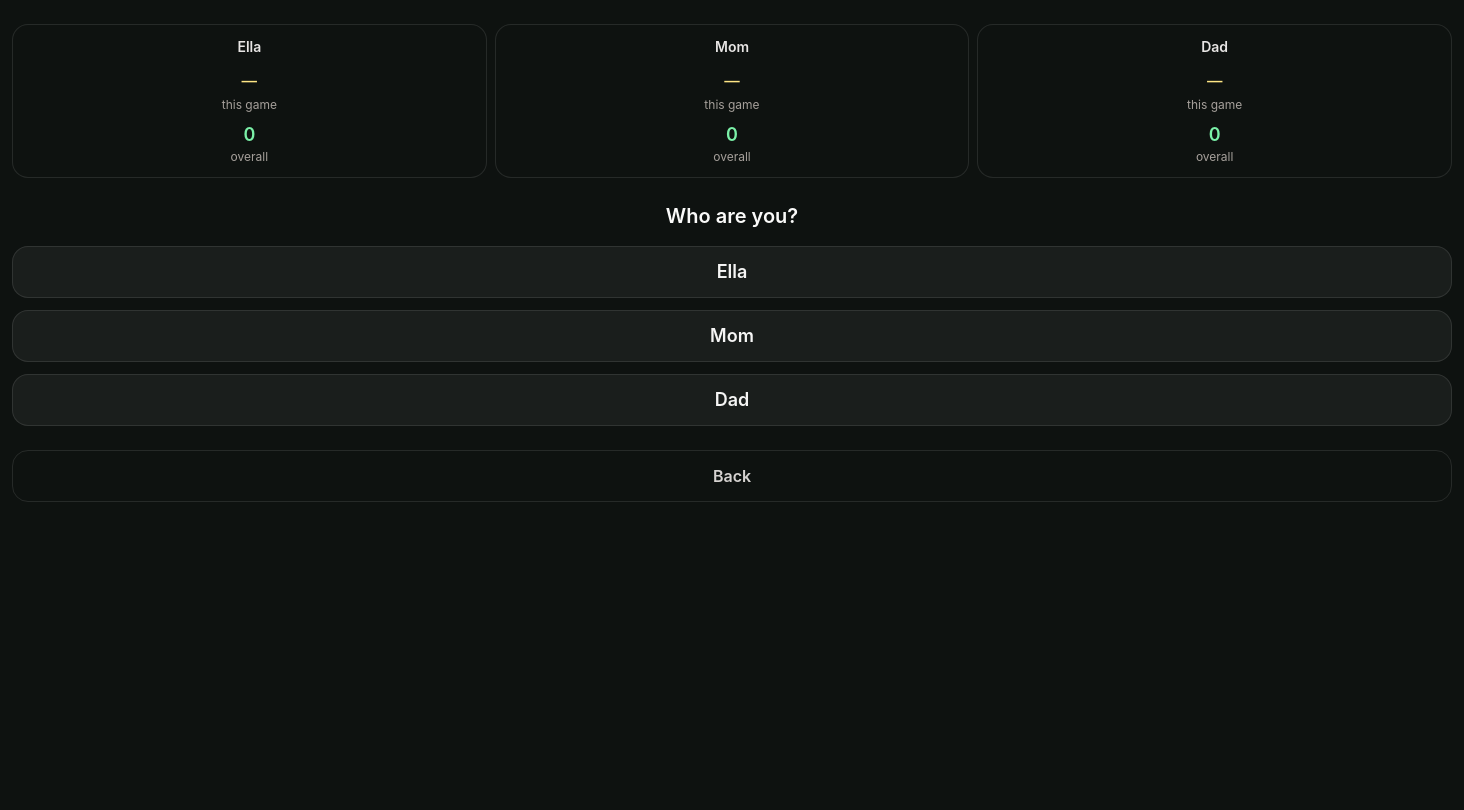
it: family match screen › does not count a short spelling and shows the letters from your own try
Click the button "Ella": (732, 272) [12, 246, 1452, 298]
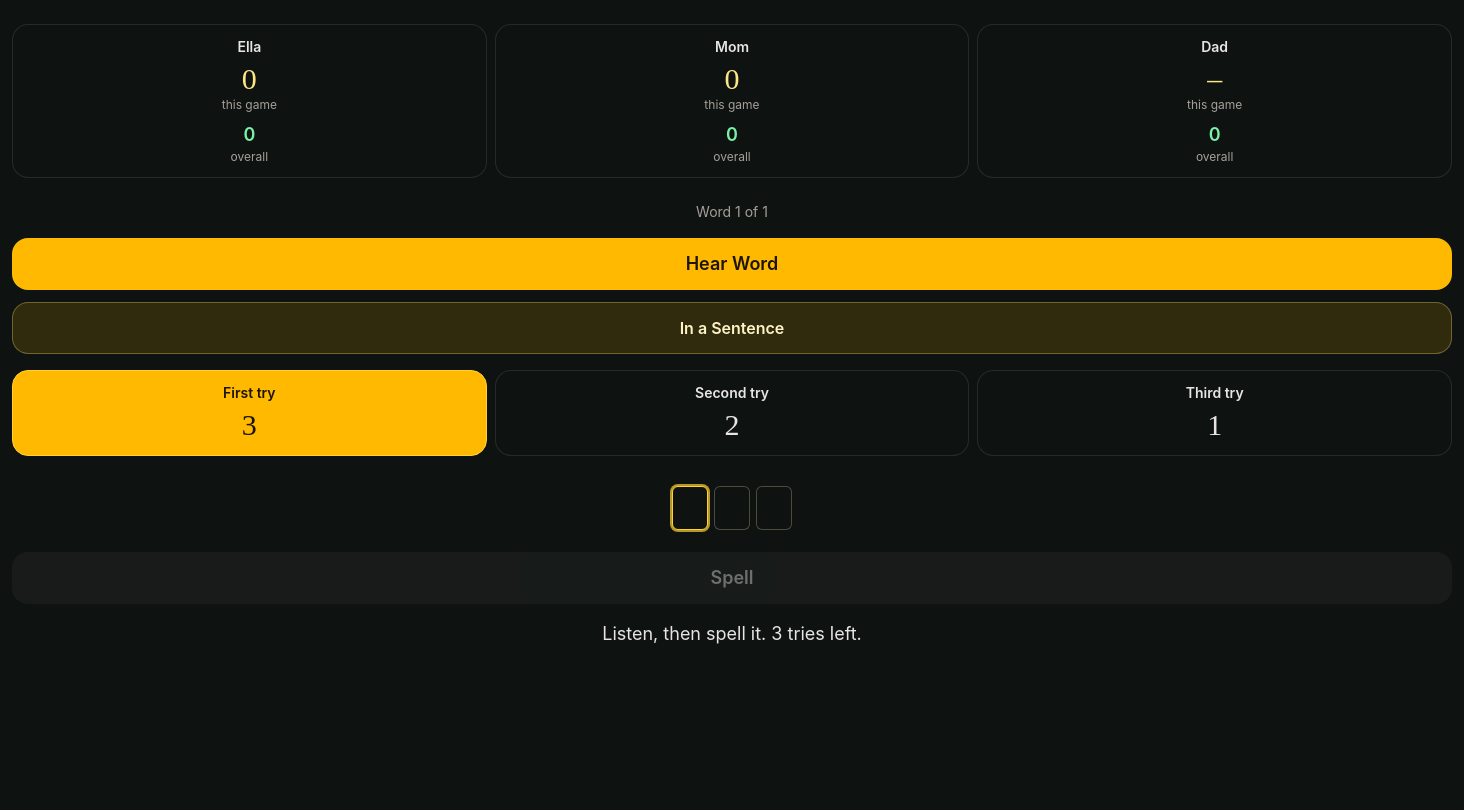
In the field named "Spell the word": (732, 508) [12, 476, 1452, 540], type "r"
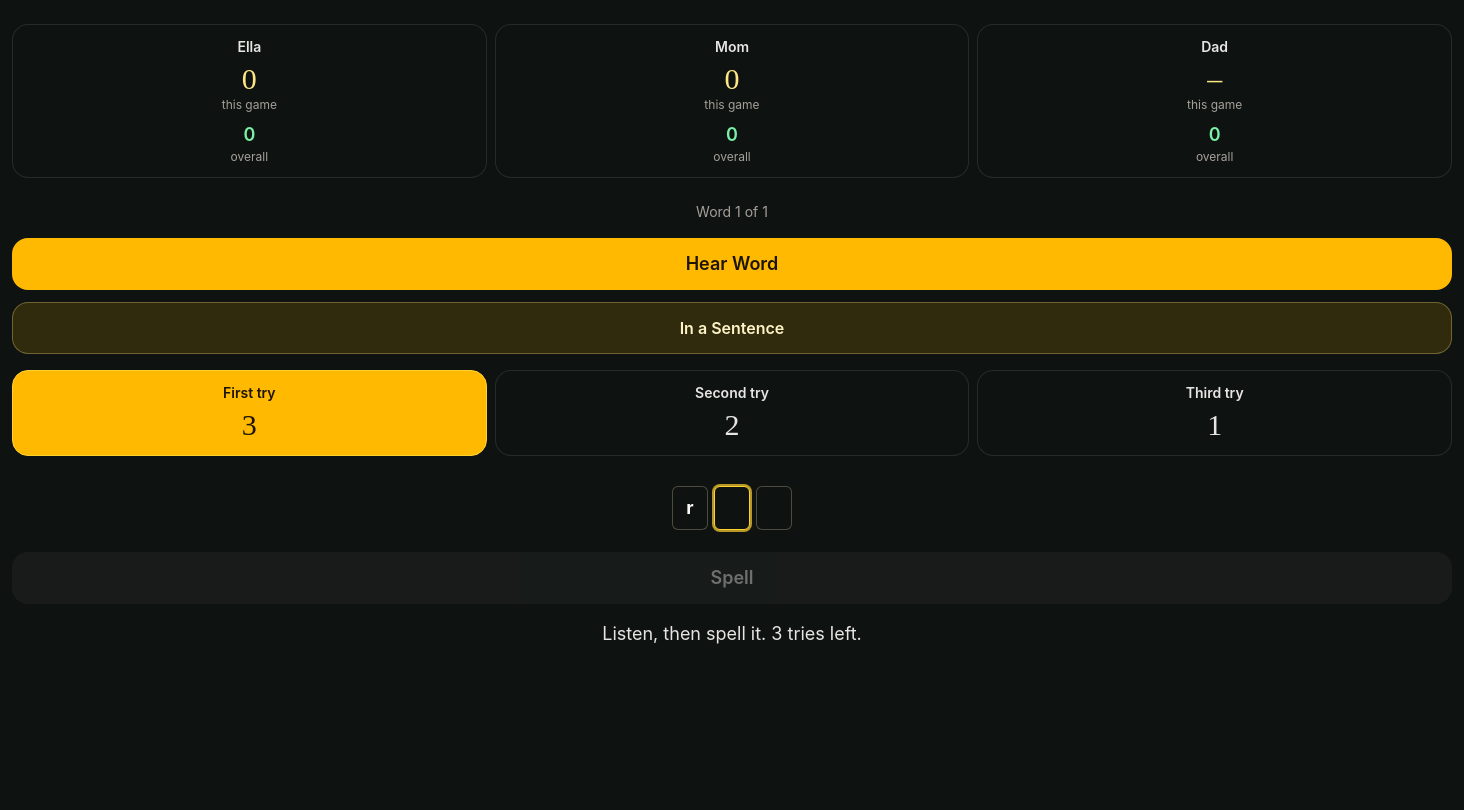
Check: the button "Spell" is disabled, box [12, 552, 1452, 604]
In the field named "Spell the word": (732, 508) [12, 476, 1452, 540], type "at"
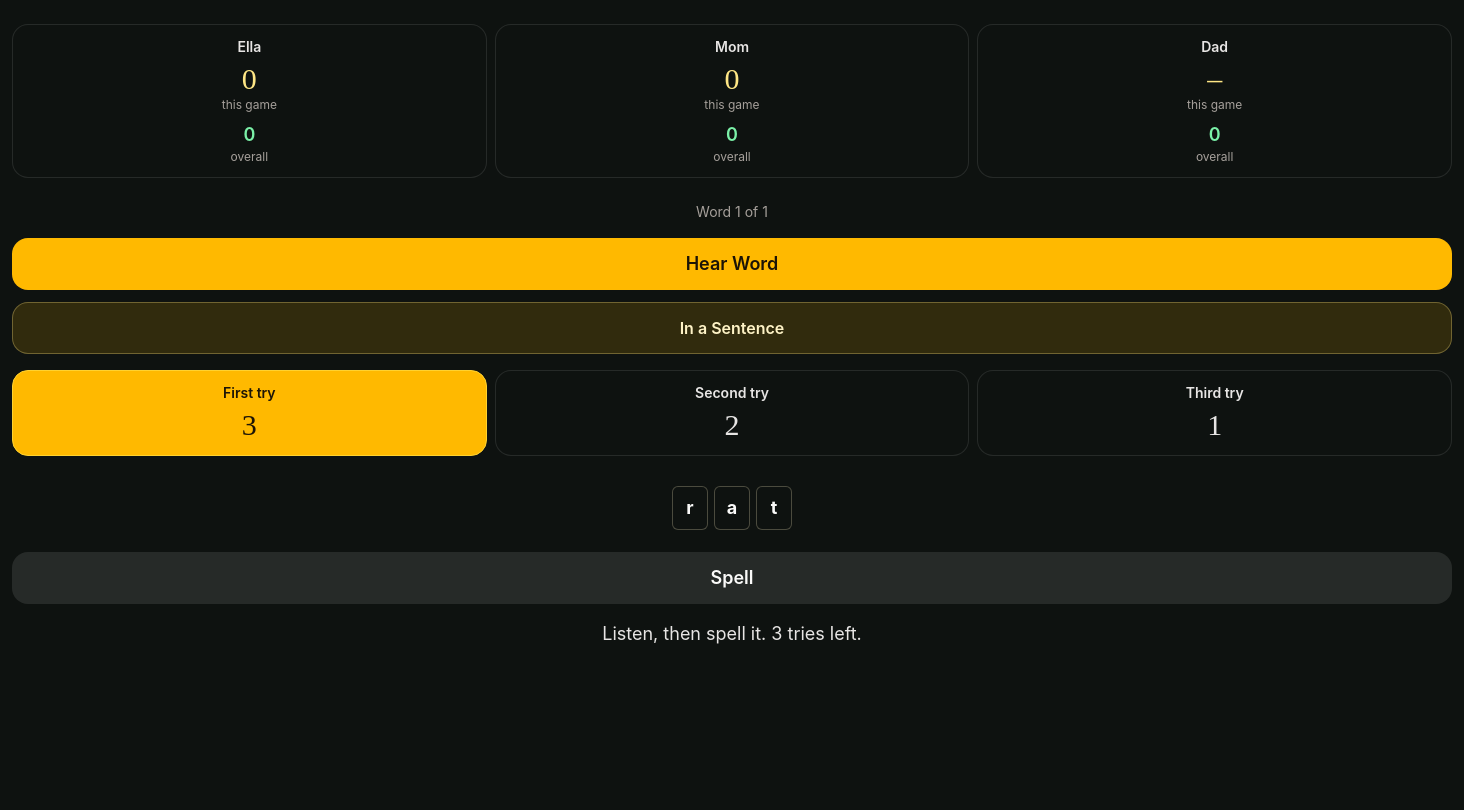
Click the button "Spell": (732, 578) [12, 552, 1452, 604]
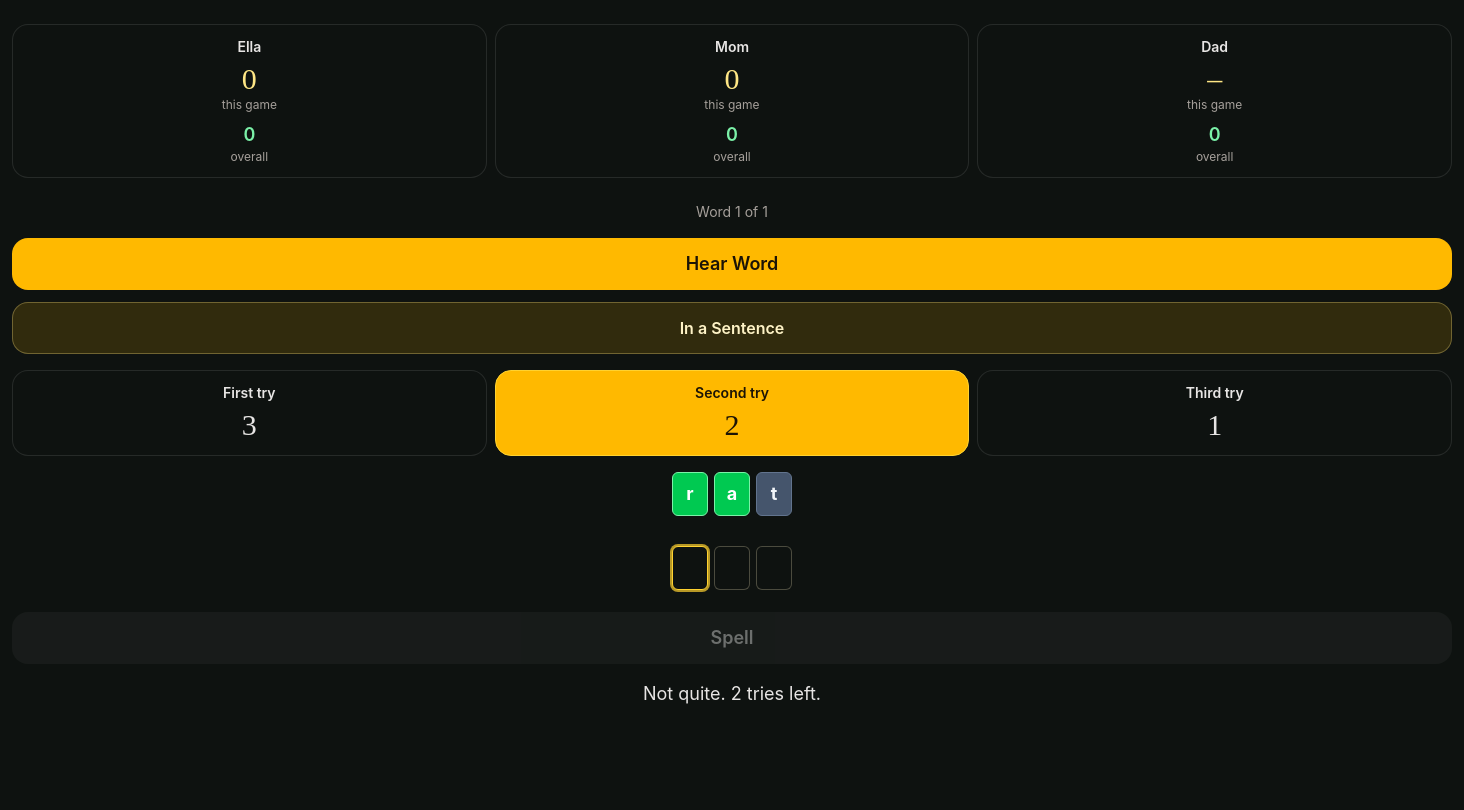
Check: the number of elements with test id "attempt-tile" is 3, box [672, 472, 708, 516]; [714, 472, 750, 516]; [756, 472, 792, 516]
Check: the text "Not quite. 2 tries left." is shown, box [643, 683, 821, 704]
